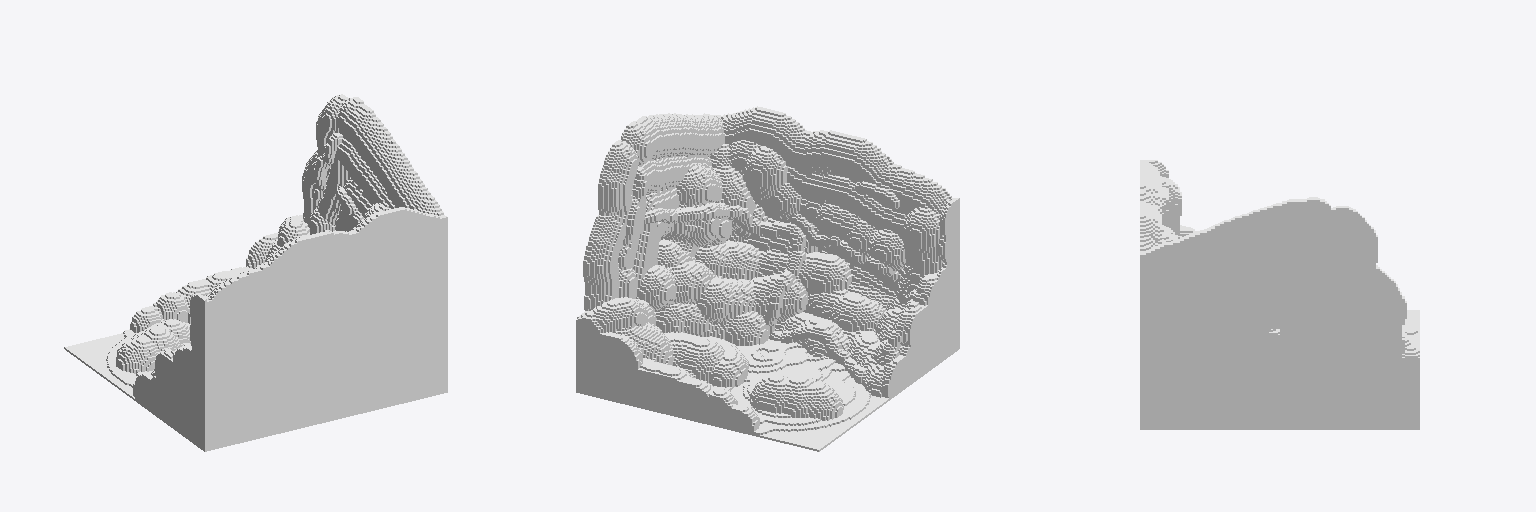
The model's file is Ext_LunarBorder4.obj.
The picture shows the model from 3 angles: view 1: azimuth 30°, elevation 25°; view 2: azimuth 150°, elevation 25°; view 3: azimuth 270°, elevation 25°; orthographic projection.
Bounding box in the file's own units: 126 × 114 × 126.